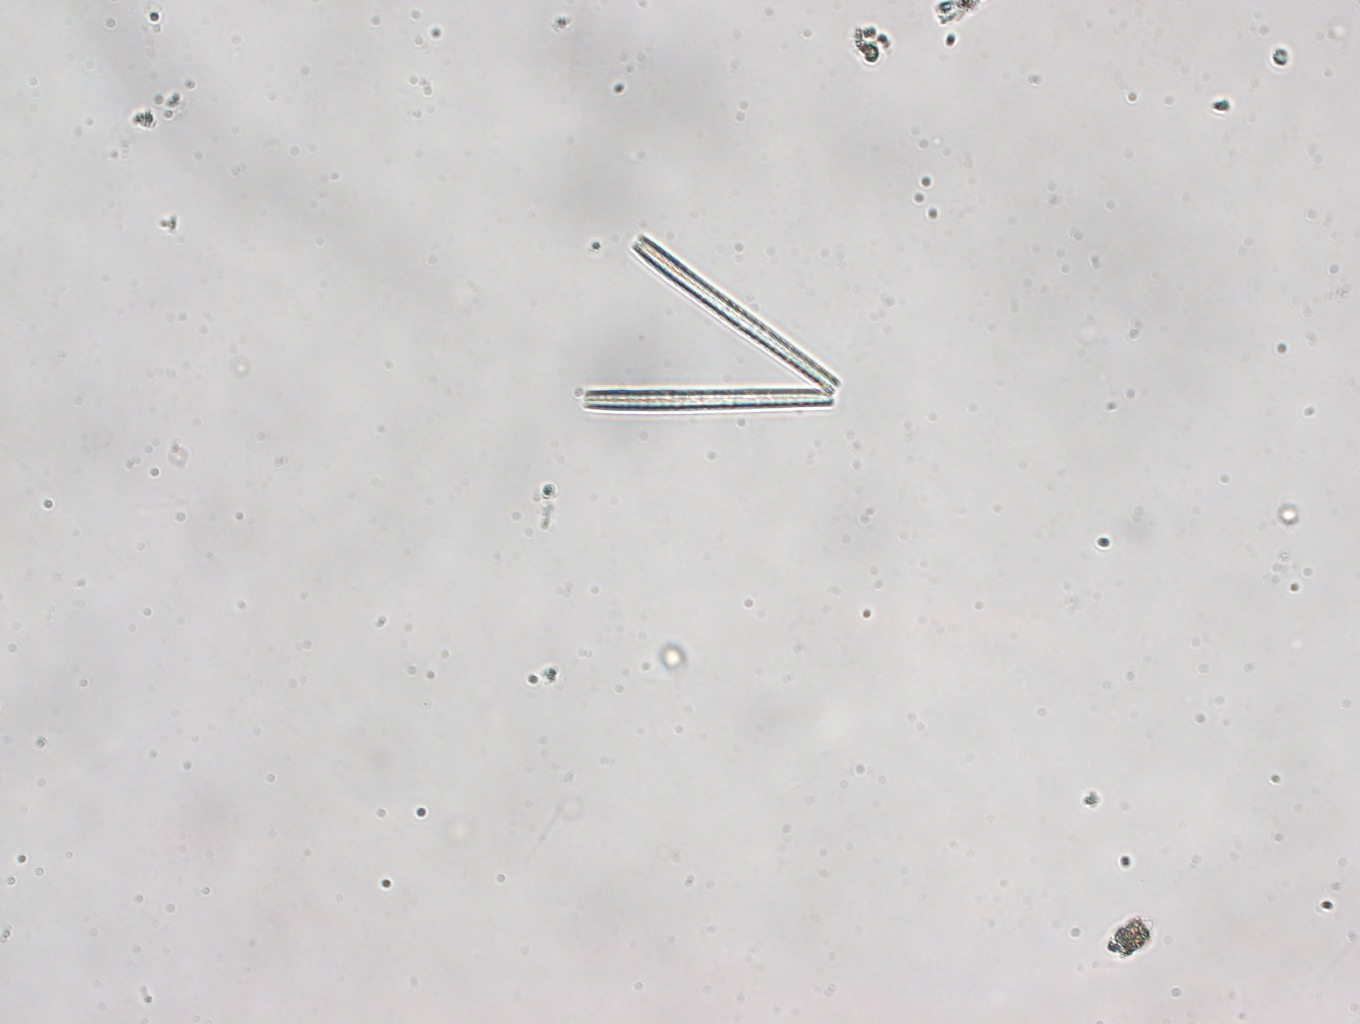thalassionema frauenfeldii: (579, 234, 844, 412)
